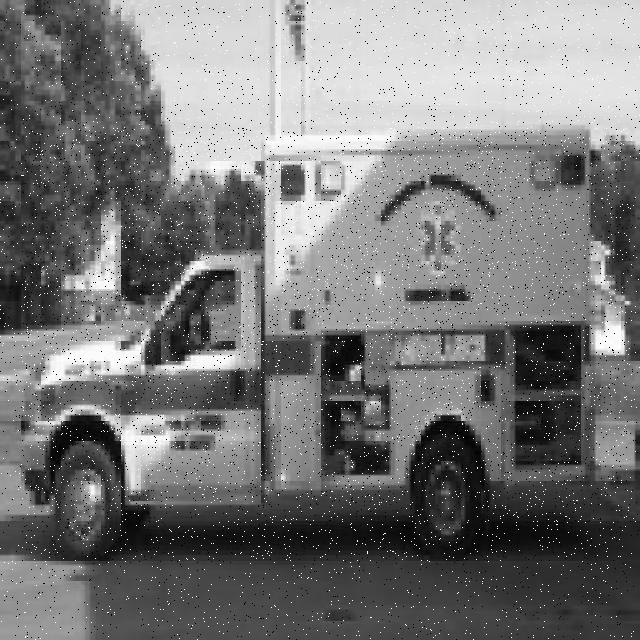Ambulance: (21, 127, 627, 561)
